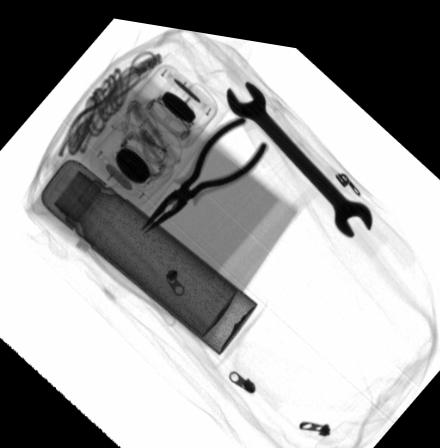Pliers: (136, 107, 270, 232)
Wrench: (226, 73, 374, 226)
